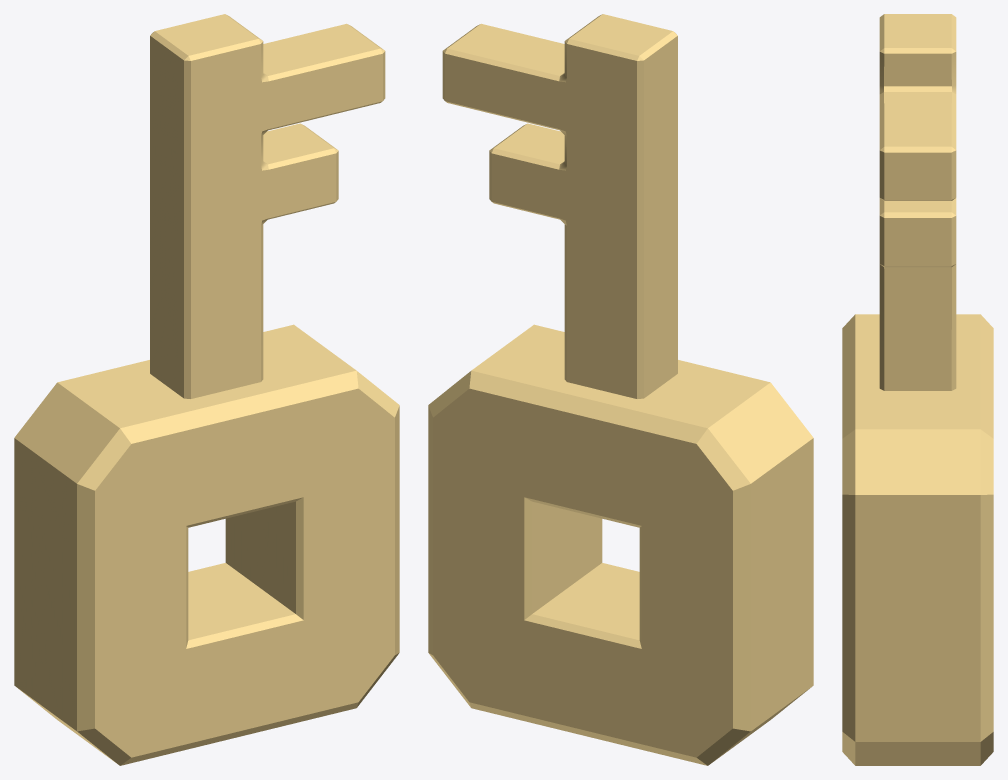
Rendered from Key.fbx.
3 renders of one model, left to right at view 1: azimuth 30°, elevation 25°; view 2: azimuth 150°, elevation 25°; view 3: azimuth 270°, elevation 25°, orthographic.
Visible parts, largest first — view 1: Key; view 2: Key; view 3: Key.
Part boxes in pixels (x1,y1,x2,y2): Key: (14,14,399,765); Key: (428,14,813,765); Key: (842,14,993,765).
Size of the model in its own units: 1 by 2.01 by 0.408.
Materials: 1 (1 with a texture image).
